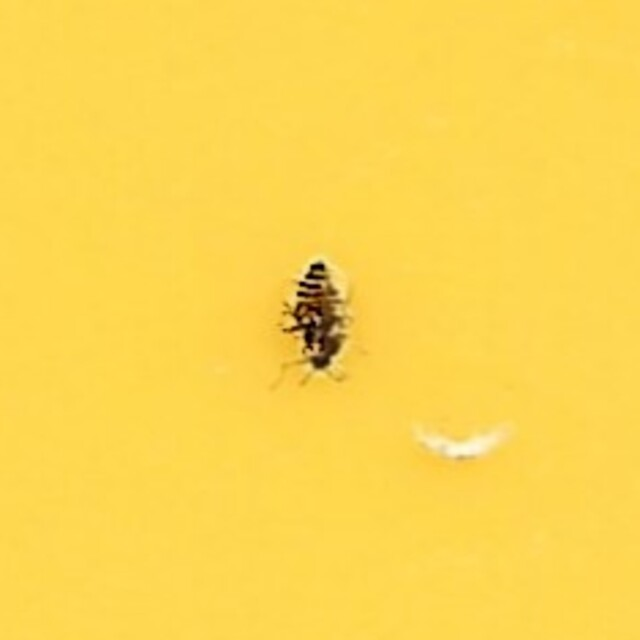Nematocera: (272, 247, 368, 393)
